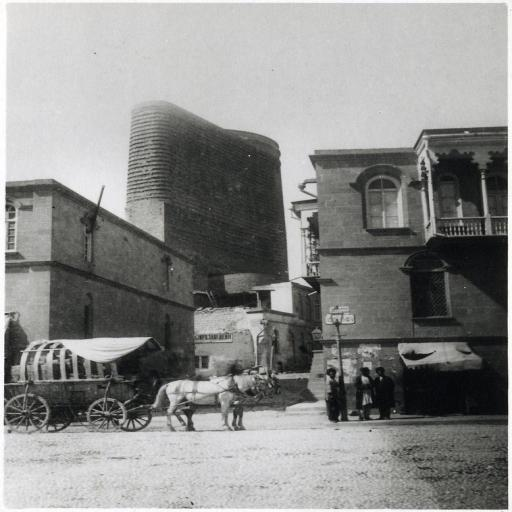horse: (150, 374, 272, 434), (180, 368, 286, 432)
